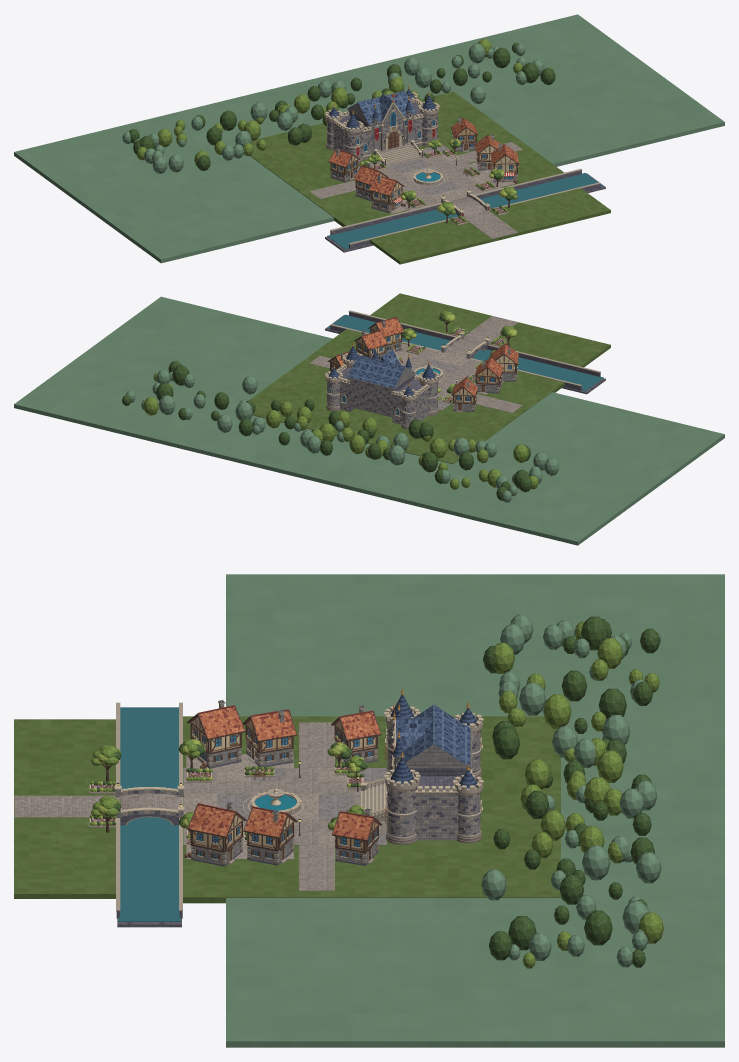
The model's file is Building_Town_CenterSquare_1.fbx.
The picture shows the model from 3 angles, top to bottom: view 1: azimuth 30°, elevation 25°; view 2: azimuth 150°, elevation 25°; view 3: azimuth 270°, elevation 25°; orthographic projection. The views are drawn at different scales.
Parts seen in each view (by area): view 1: Outer meadow, Woodland silhouettes, Plaza land, South bank, Paved plaza and streets, Canal water, Canal retaining walls, Individual_Slate_Courses, Arched deck, masonry and parapet, Main_Stair_Treads, Ashlar plinth and plaster walls; view 2: Outer meadow, Woodland silhouettes, Plaza land, South bank, Paved plaza and streets, Canal water, Canal retaining walls, Keep_Back_Ashlar, Individual_Slate_Courses, Arched deck, masonry and parapet, Ashlar plinth and plaster walls.001; view 3: Outer meadow, Woodland silhouettes, Plaza land, South bank, Paved plaza and streets, Canal water, Individual_Slate_Courses, Curtain_Outer_Ashlar.001, Arched deck, masonry and parapet, Canal retaining walls, Coursed_Radial_Ashlar.002, Ashlar plinth and plaster walls.003 (+13 smaller).
Boxes of the visible parts, box(x1,y1,x2,y2) form: Outer meadow: box(14, 14, 724, 263); Woodland silhouettes: box(122, 39, 555, 173); Plaza land: box(235, 91, 563, 226); South bank: box(369, 188, 610, 264); Paved plaza and streets: box(309, 142, 522, 238); Canal water: box(327, 173, 603, 249); Canal retaining walls: box(330, 168, 600, 248); Individual_Slate_Courses: box(349, 91, 415, 124); Arched deck, masonry and parapet: box(443, 193, 485, 216); Main_Stair_Treads: box(379, 146, 420, 164); Ashlar plinth and plaster walls: box(371, 182, 402, 212); Outer meadow: box(14, 296, 724, 545); Woodland silhouettes: box(122, 361, 559, 502); Plaza land: box(235, 329, 564, 464); South bank: box(370, 293, 610, 367); Paved plaza and streets: box(309, 316, 522, 412); Canal water: box(327, 314, 603, 391); Canal retaining walls: box(330, 310, 600, 390); Keep_Back_Ashlar: box(348, 378, 393, 417); Individual_Slate_Courses: box(347, 356, 408, 388); Arched deck, masonry and parapet: box(445, 335, 487, 358); Ashlar plinth and plaster walls.001: box(475, 368, 502, 393); Outer meadow: box(226, 574, 724, 1047); Woodland silhouettes: box(481, 614, 663, 968); Plaza land: box(183, 716, 560, 903); South bank: box(14, 719, 115, 898); Paved plaza and streets: box(14, 722, 386, 890); Canal water: box(118, 707, 180, 921); Individual_Slate_Courses: box(397, 705, 470, 767); Curtain_Outer_Ashlar.001: box(416, 793, 458, 840); Arched deck, masonry and parapet: box(117, 787, 181, 825); Canal retaining walls: box(116, 702, 182, 918); Coursed_Radial_Ashlar.002: box(387, 788, 417, 839); Ashlar plinth and plaster walls.003: box(190, 814, 243, 866).
Bounding box in the file's own units: 155 × 17.59 × 99.73.
